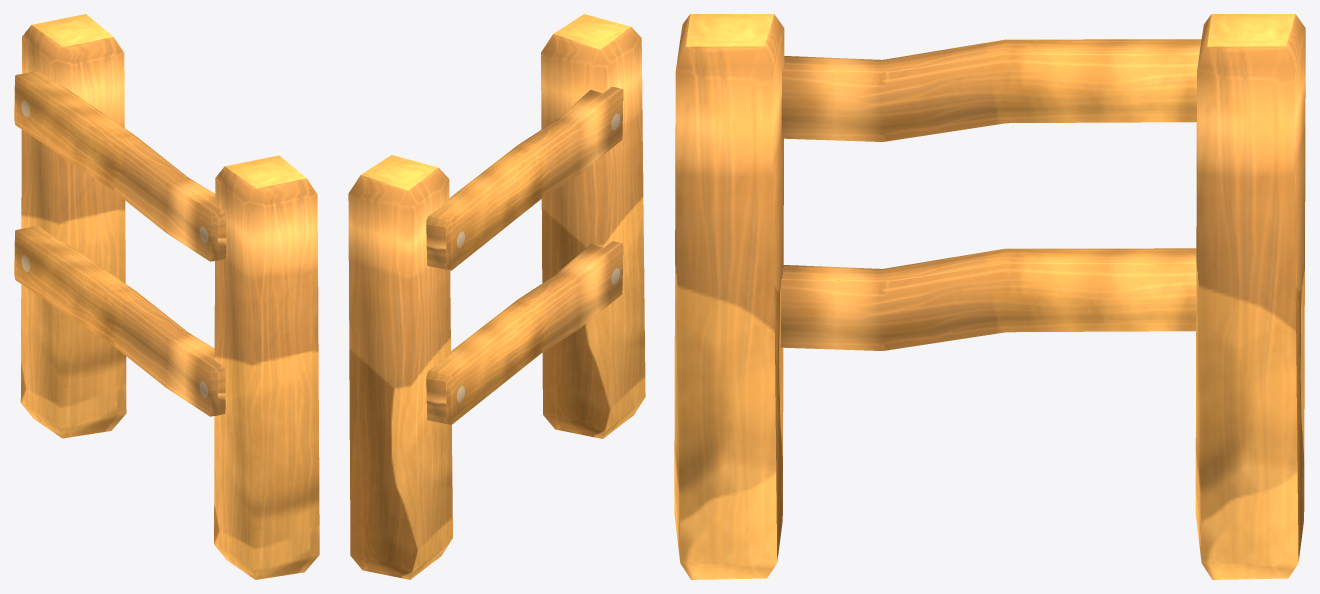
File: SM_Stylized_Fence_05.fbx
3 renders of one model, left to right at view 1: azimuth 30°, elevation 25°; view 2: azimuth 150°, elevation 25°; view 3: azimuth 270°, elevation 25°, orthographic. The views are drawn at different scales.
Visible parts, largest first — view 1: SM_Stylized_Fence_05_LOD0; view 2: SM_Stylized_Fence_05_LOD0; view 3: SM_Stylized_Fence_05_LOD0.
Part boxes in pixels (x1,y1,x2,y2): SM_Stylized_Fence_05_LOD0: [14, 14, 319, 579]; SM_Stylized_Fence_05_LOD0: [348, 14, 645, 579]; SM_Stylized_Fence_05_LOD0: [674, 14, 1305, 579].
Bounding box in the file's own units: 24.99 × 112 × 104.
